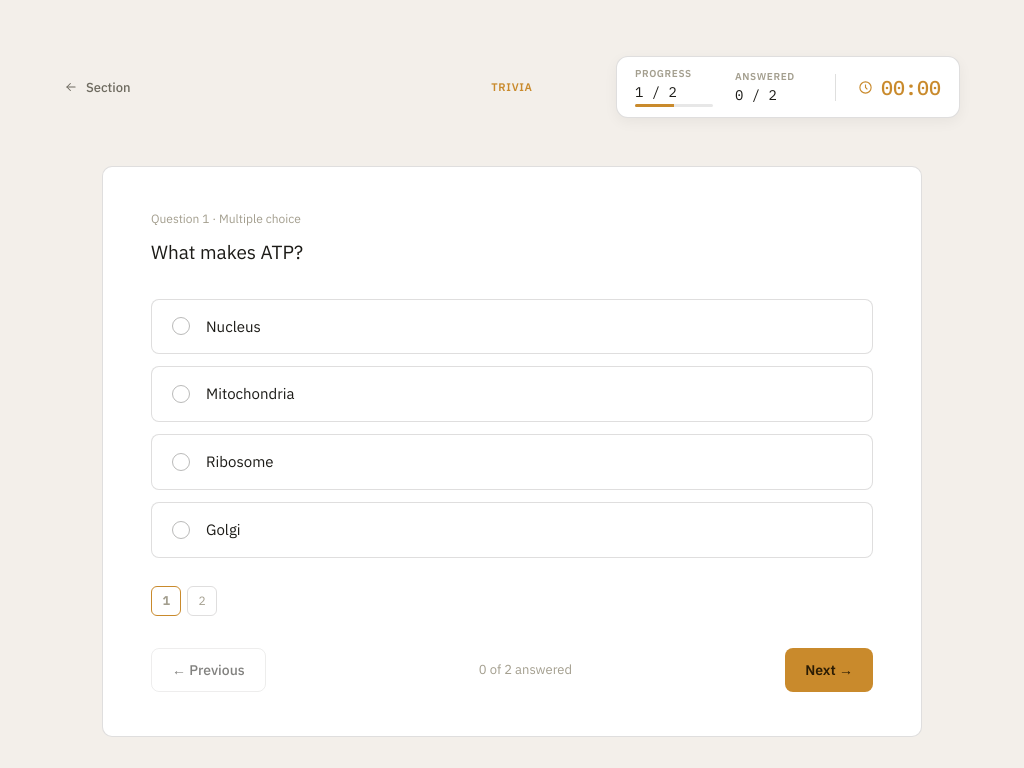
QuizPage in Trivia › grades a pick at once, shows the answer, and the pet cheers right away
Click the radio button "Mitochondria": (512, 394) [151, 366, 873, 422]
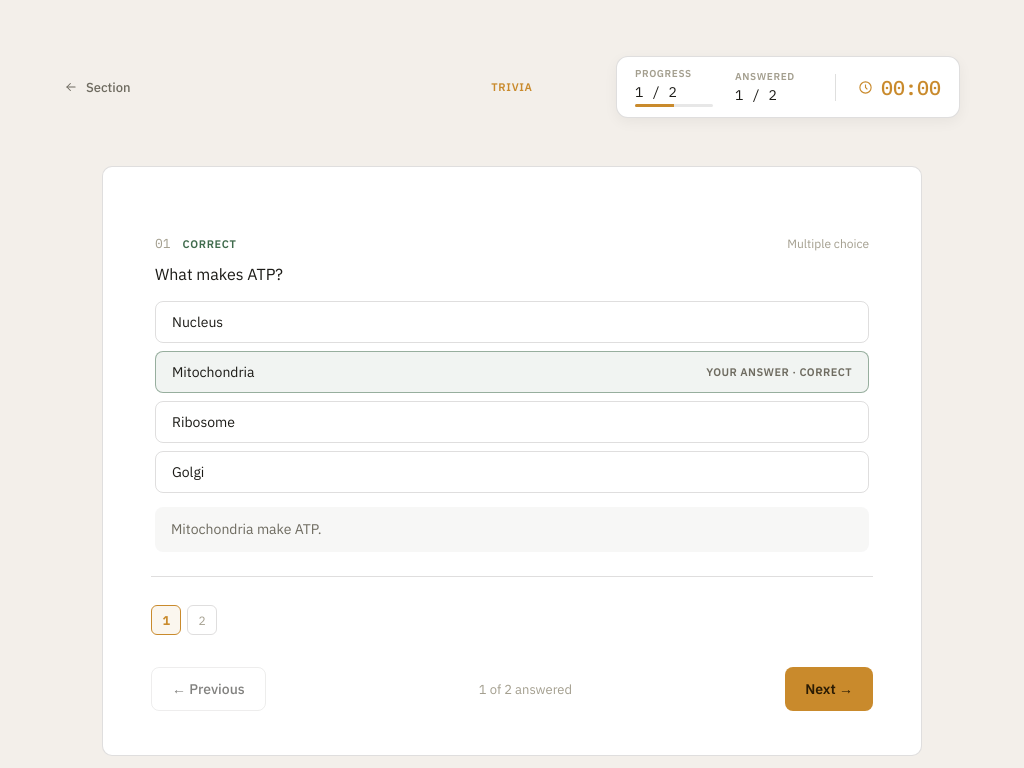
Now the text "Mitochondria make ATP." is shown, box [155, 507, 869, 552]
Now the text "Correct" is shown, box [183, 236, 237, 250]
